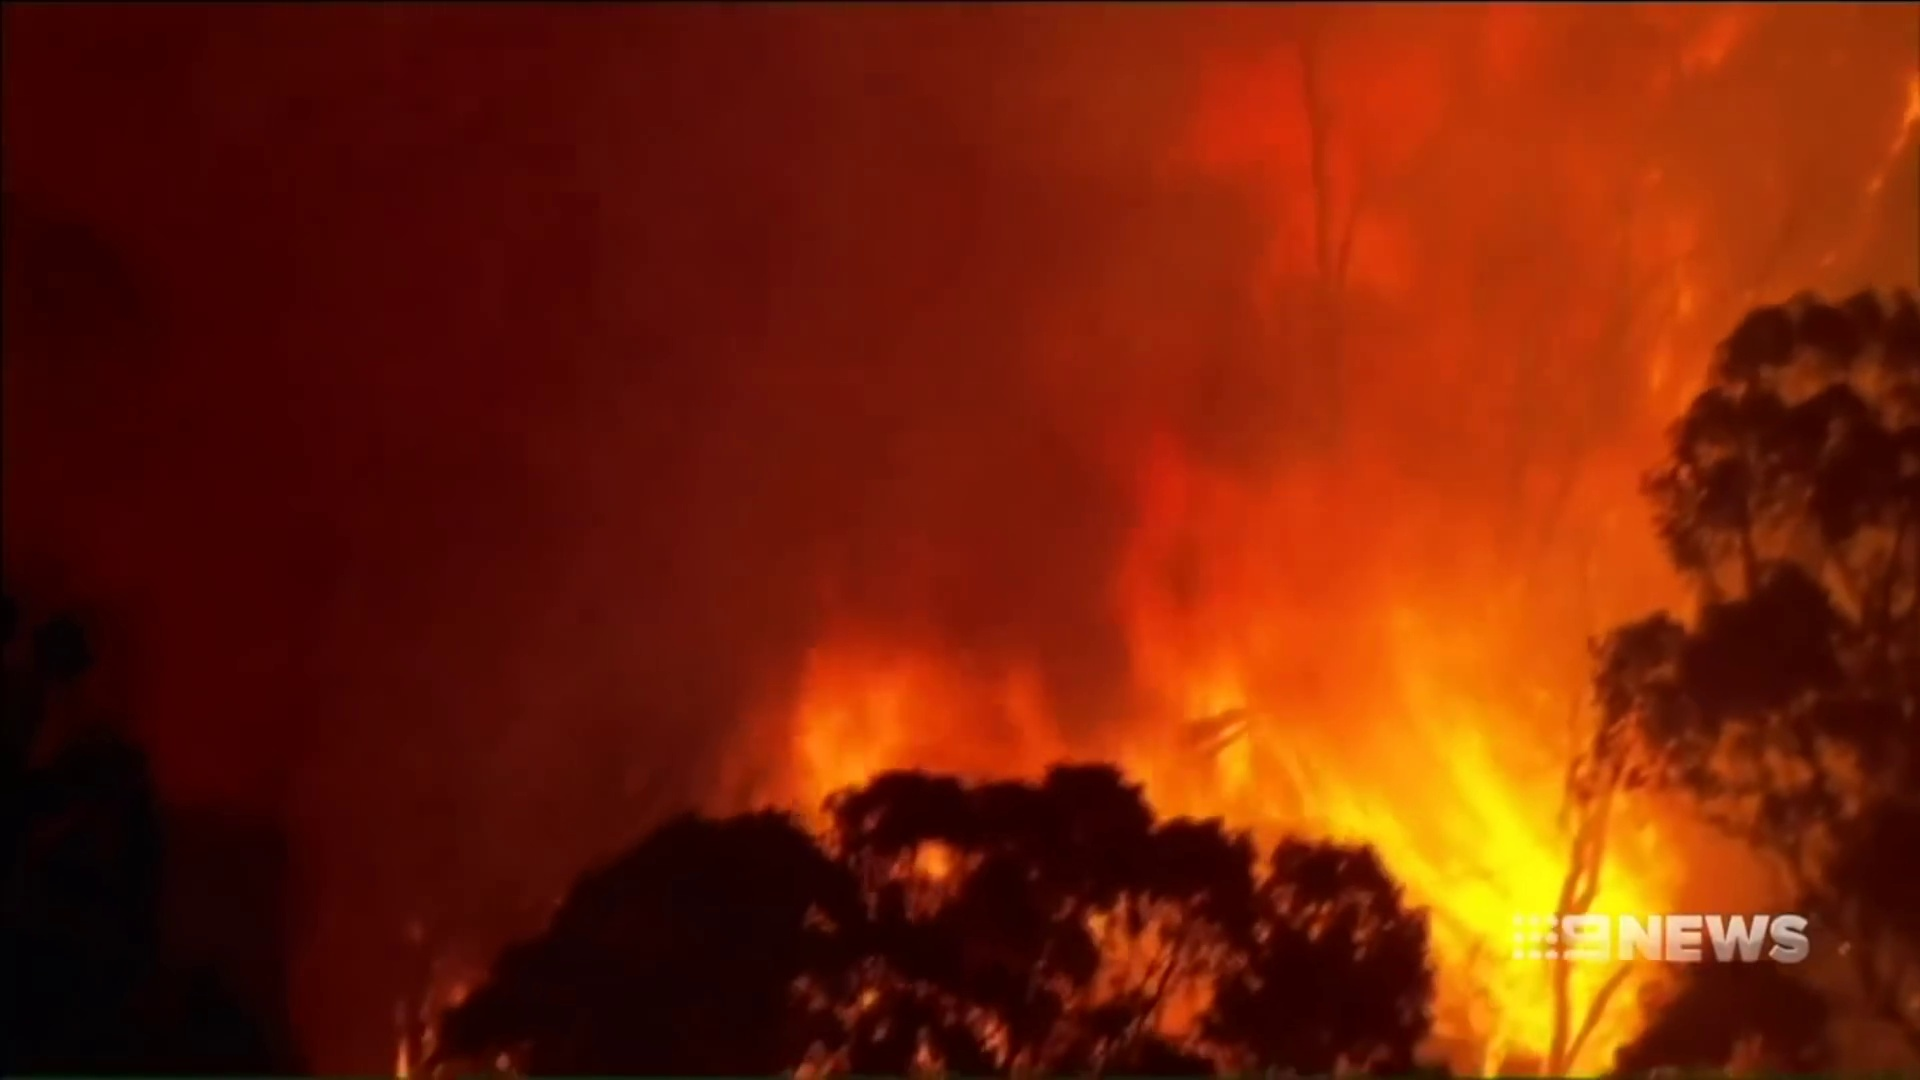fire: (1375, 713, 1663, 1080)
